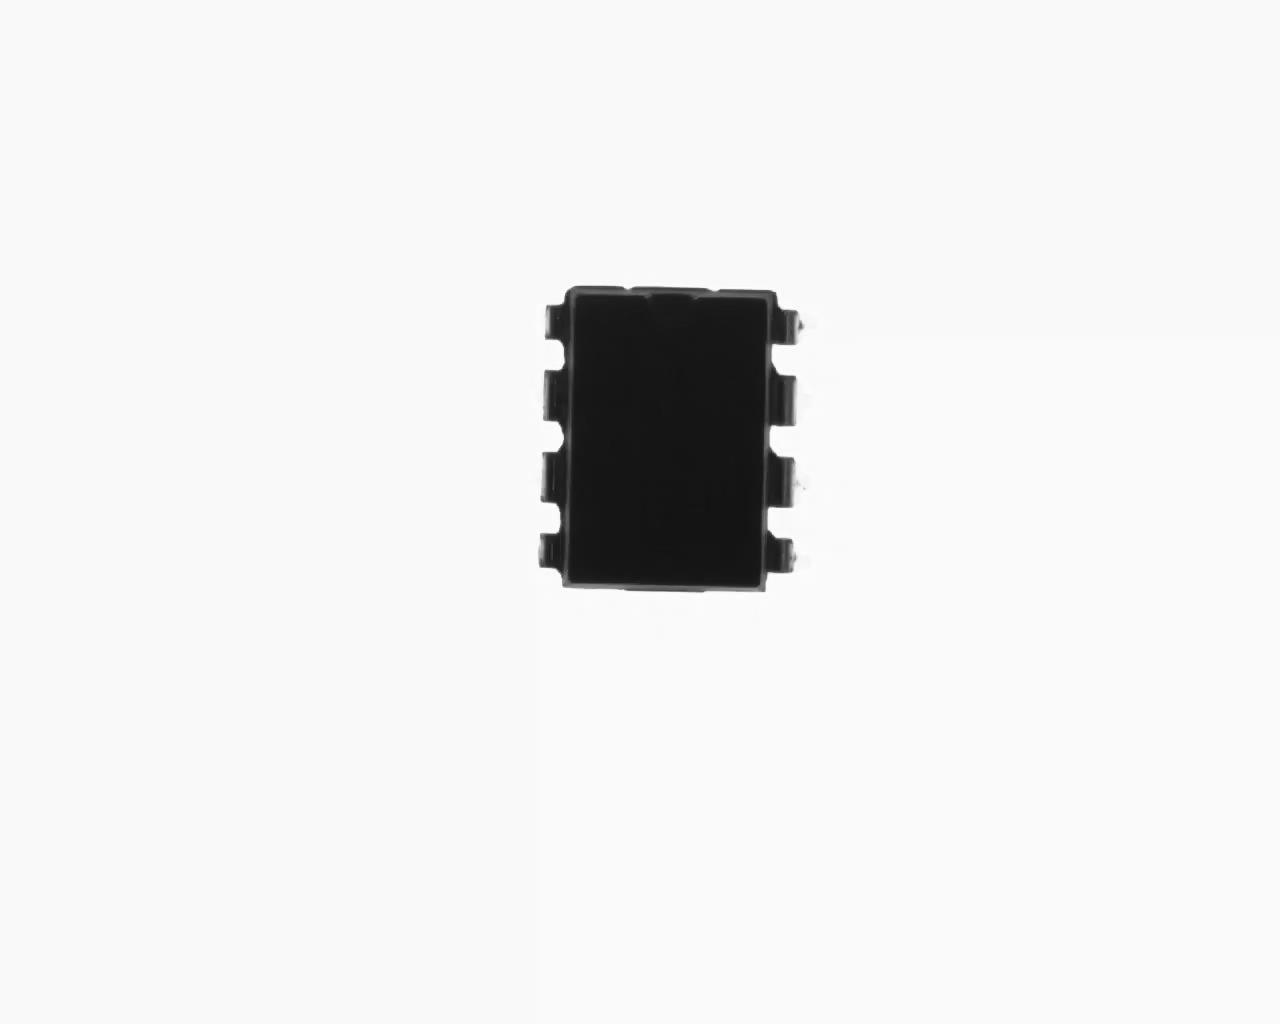Leg: (766, 366, 813, 433), (765, 522, 810, 579), (766, 450, 808, 511), (529, 444, 568, 506), (770, 303, 817, 351), (535, 365, 571, 424), (533, 296, 572, 344), (529, 527, 566, 572)
